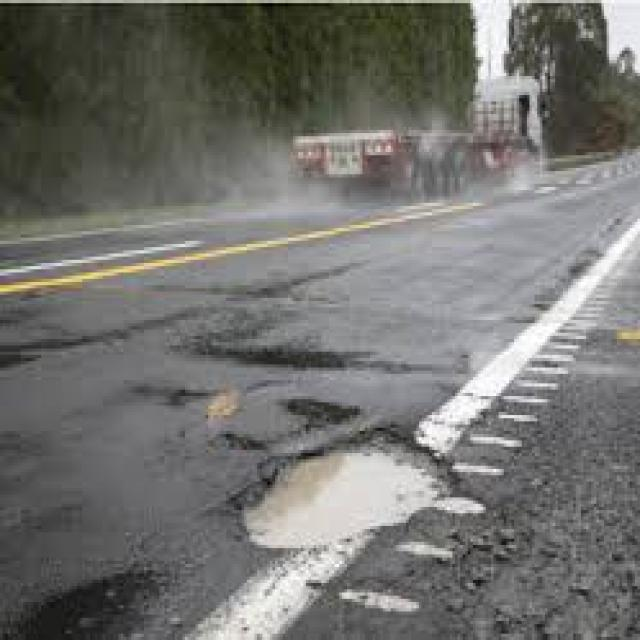Pothole: (242, 399, 447, 548), (3, 573, 159, 640)
